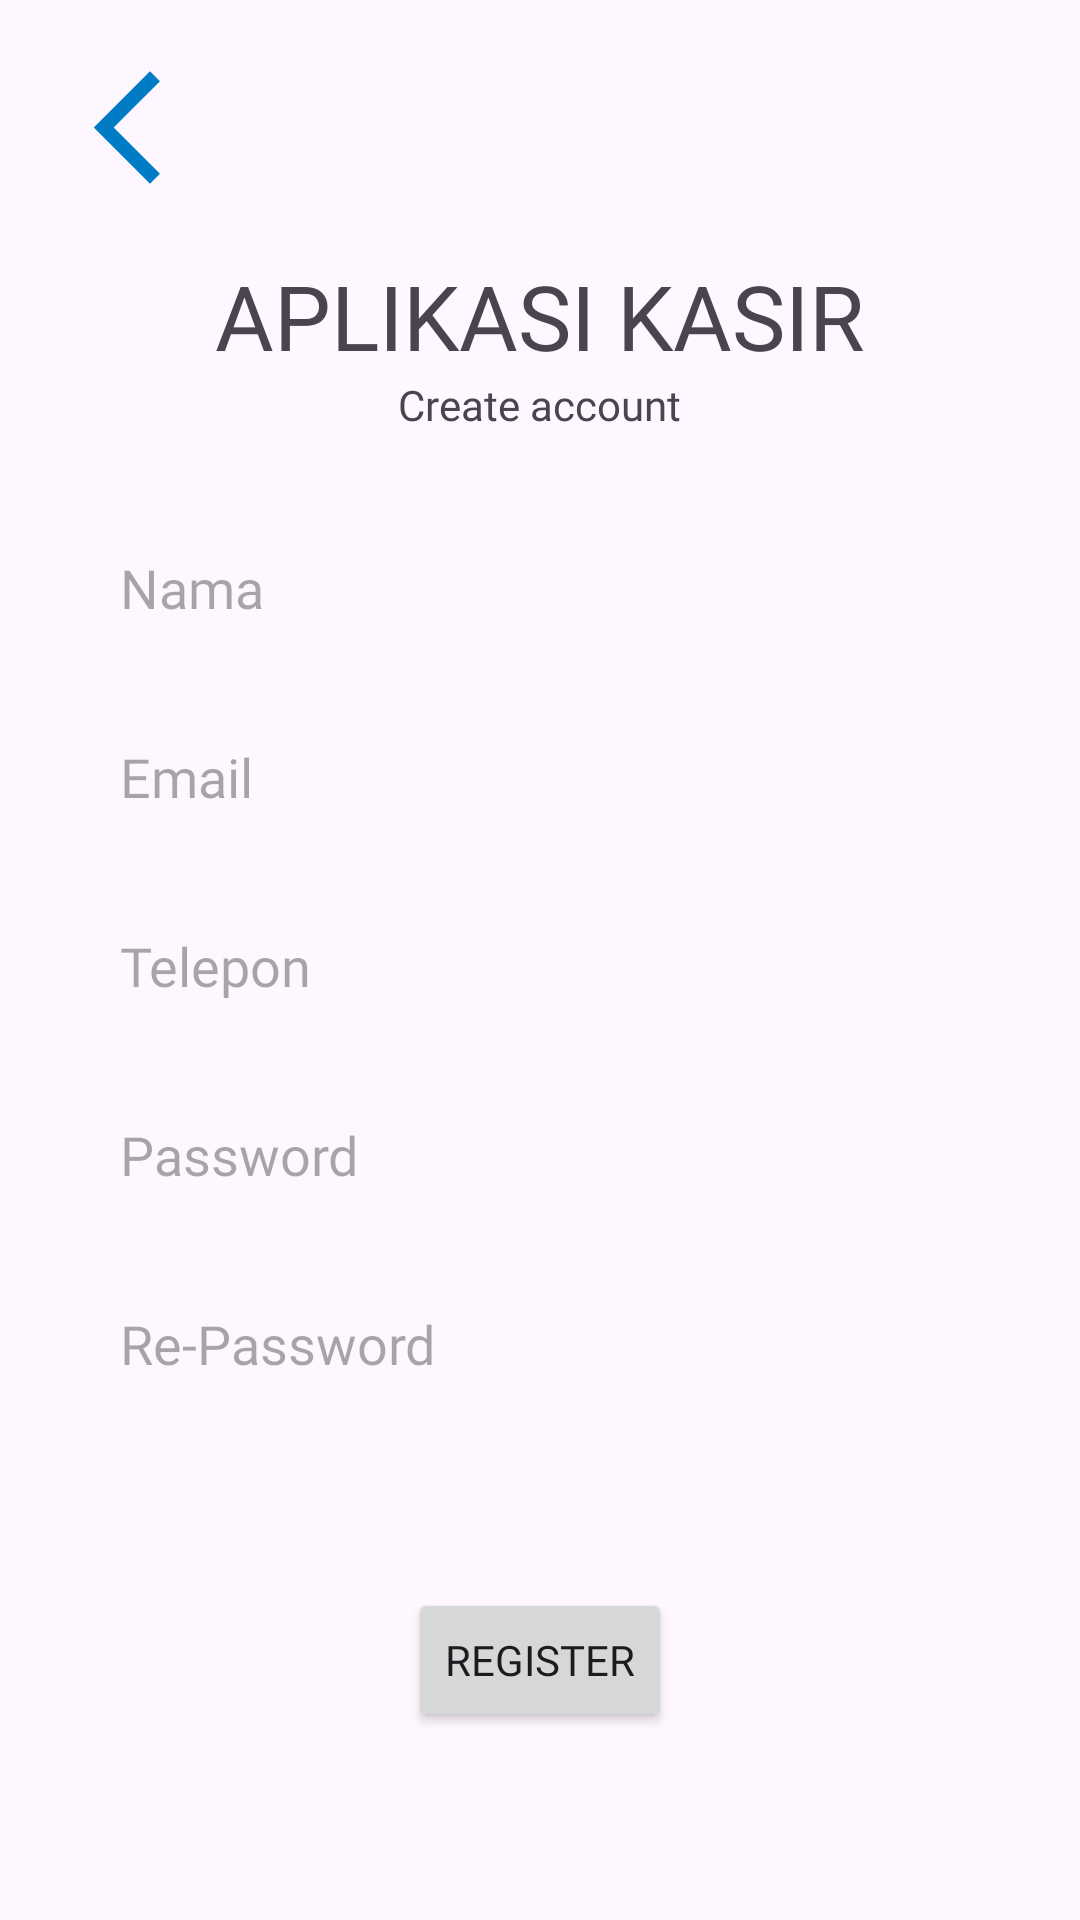

Named icons in this screenshot (1080px x 1920px) and their bounding boxes, (x1, y1, x2, y2):
back: (94, 71, 160, 184)
